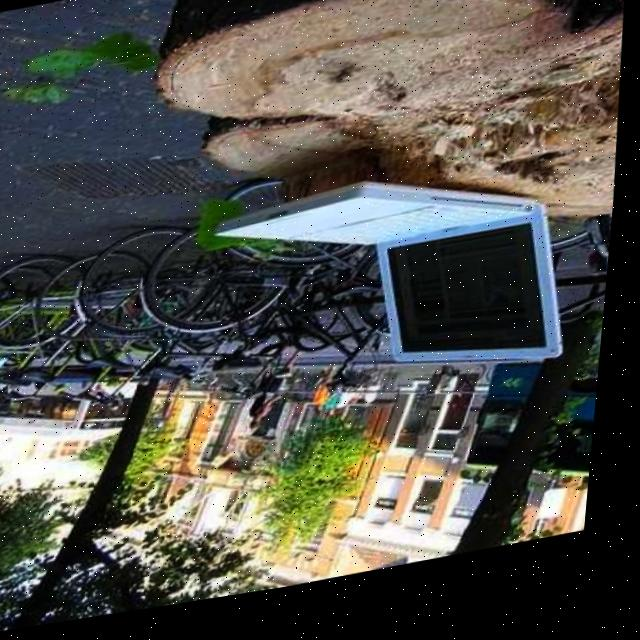laptop: (241, 145, 596, 430)
